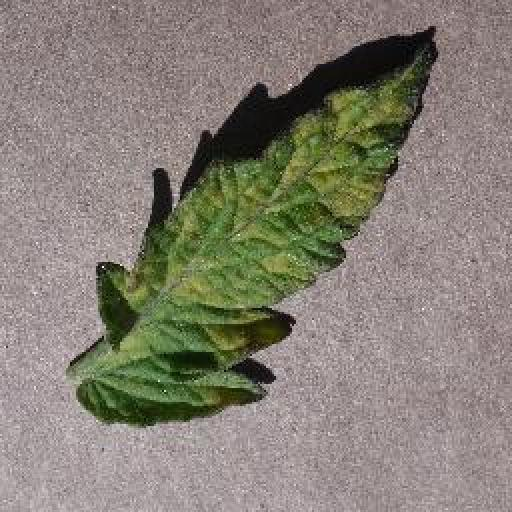Leaf Mold: (81, 46, 436, 426)
